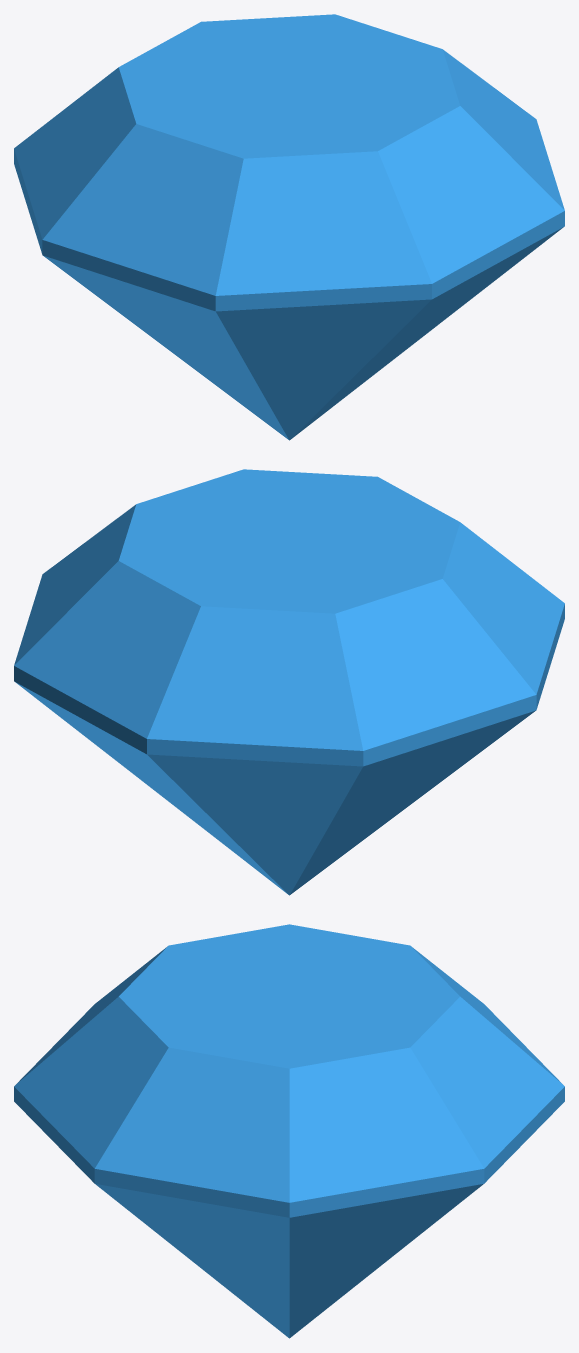
File: blue-gem.glb
3 views of the same model, one above another, from view 1: azimuth 30°, elevation 25°; view 2: azimuth 150°, elevation 25°; view 3: azimuth 270°, elevation 25° (orthographic). The views are drawn at different scales.
Parts seen in each view (by area): view 1: gem; view 2: gem; view 3: gem.
Boxes of the visible parts, <box> form: gem: <box>14,14,564,440</box>; gem: <box>14,469,564,895</box>; gem: <box>14,924,564,1338</box>.
Bounding box in the file's own units: 1 × 0.685 × 1.
